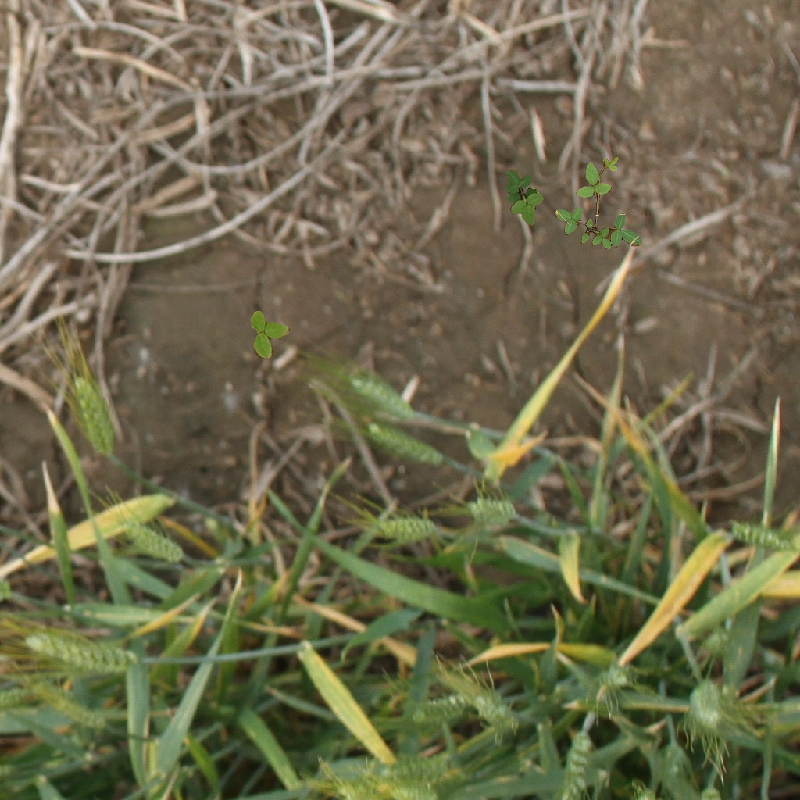spikelet: (25, 631, 136, 675), (22, 675, 104, 729), (75, 371, 119, 461), (366, 422, 443, 465), (347, 370, 410, 420), (550, 730, 593, 800), (122, 521, 184, 563), (728, 520, 798, 554), (472, 689, 518, 733), (413, 692, 469, 726), (588, 663, 631, 705), (376, 514, 438, 543), (689, 678, 722, 729), (468, 497, 516, 528), (334, 779, 392, 799)
weed: (557, 158, 640, 251), (498, 170, 557, 228), (251, 311, 290, 359)
